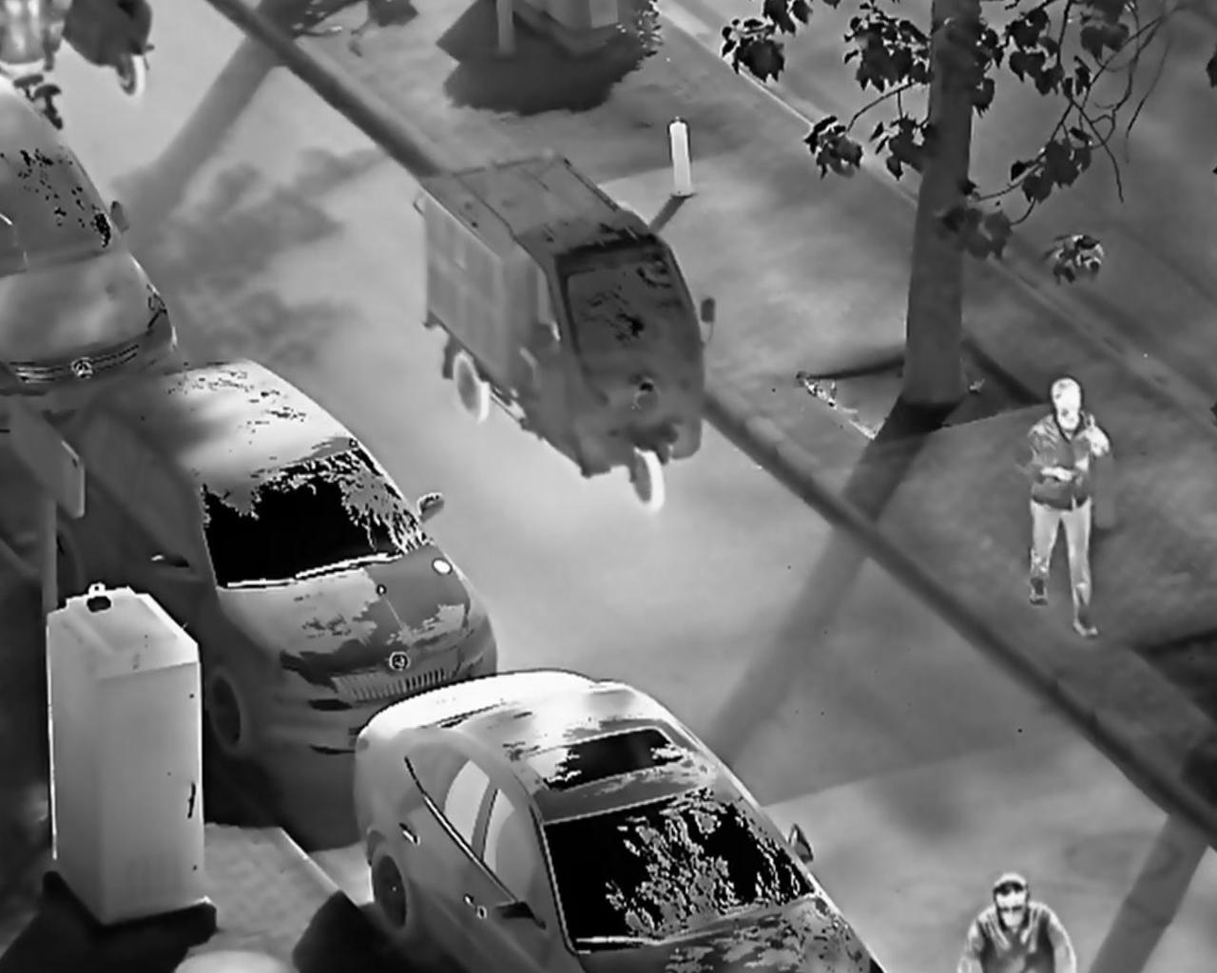person: (1018, 375, 1114, 643), (963, 870, 1076, 973)
